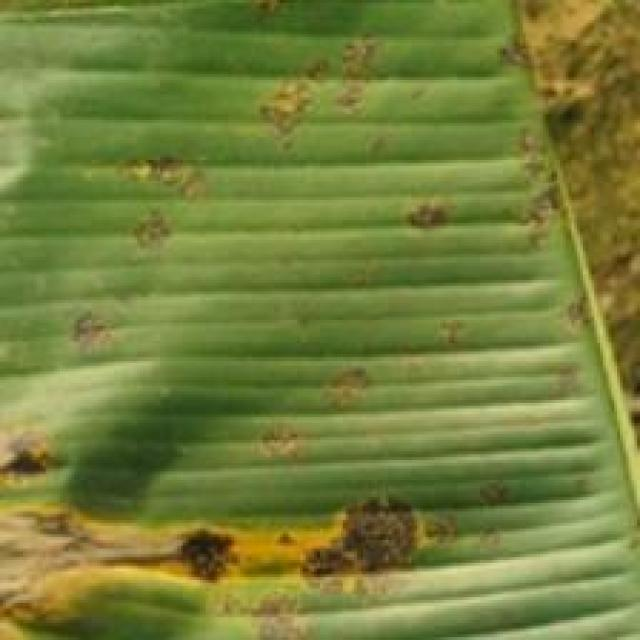Downey_mildrew: (0, 358, 532, 640), (242, 3, 555, 173), (347, 183, 640, 355), (57, 117, 239, 366)
